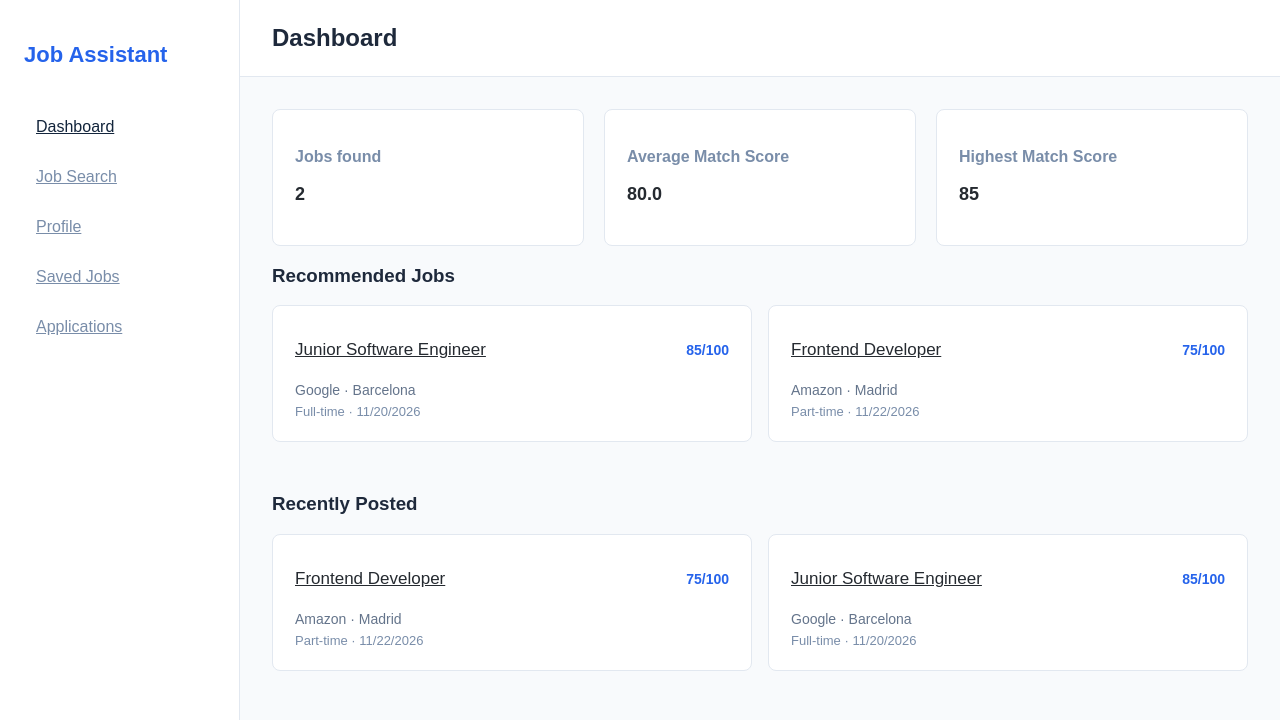
App › navigates to the Job Search page
The image size is (1280, 720).
Click the link "Job Search" at (76, 177), box [36,168,117,185]
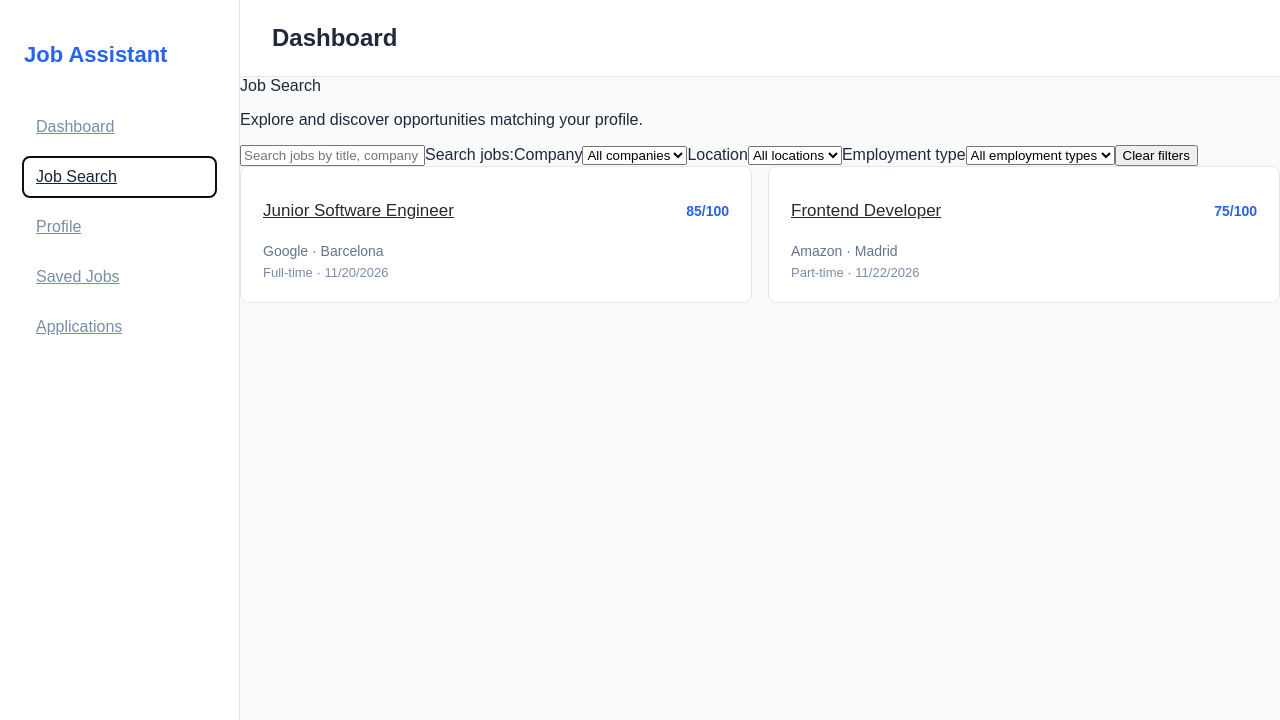
Expected: the link "Junior Software Engineer" is shown, [263,201,454,221]
Now the text "Explore and discover opportunities matching your profile." is shown, box [240,111,643,128]
